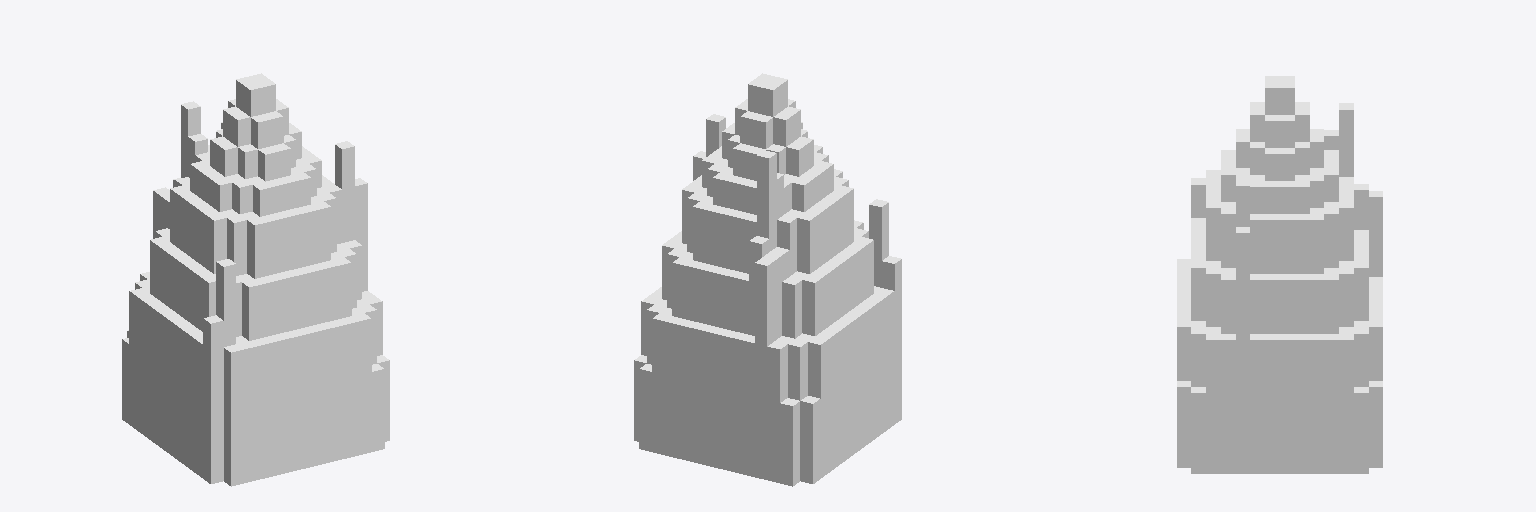
The model's file is eBullet.obj.
3 renders of one model, left to right at view 1: azimuth 30°, elevation 25°; view 2: azimuth 150°, elevation 25°; view 3: azimuth 270°, elevation 25°, orthographic.
Visible parts, largest first — view 1: object 1; view 2: object 1; view 3: object 1.
Part boxes in pixels (bbox=[...]): object 1: bbox=[122, 73, 389, 486]; object 1: bbox=[634, 73, 901, 486]; object 1: bbox=[1177, 76, 1382, 473].
Bounding box in the file's own units: 1.4 × 2.6 × 1.4.